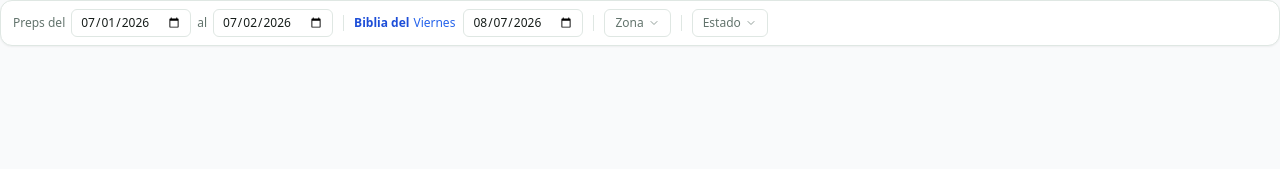
Filters — dropdown de zonas › "Todo" selecciona todas las zonas cuando no estaban todas marcadas
Later steps or results of the test are not shown.
Click the button "Zona". click: x=638, y=23
box: [604,9,671,37]
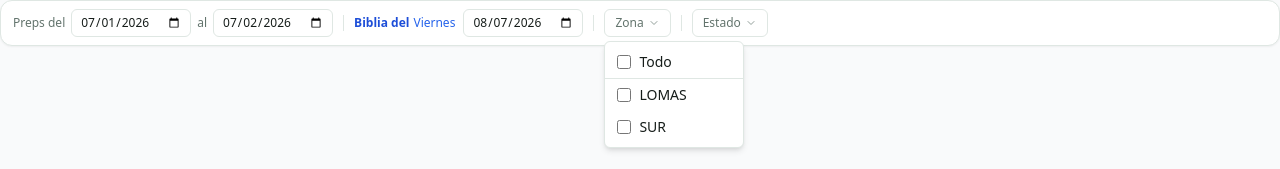
expect the checkbox labelled "Todo" is not checked: met, box [617,55,631,69]
